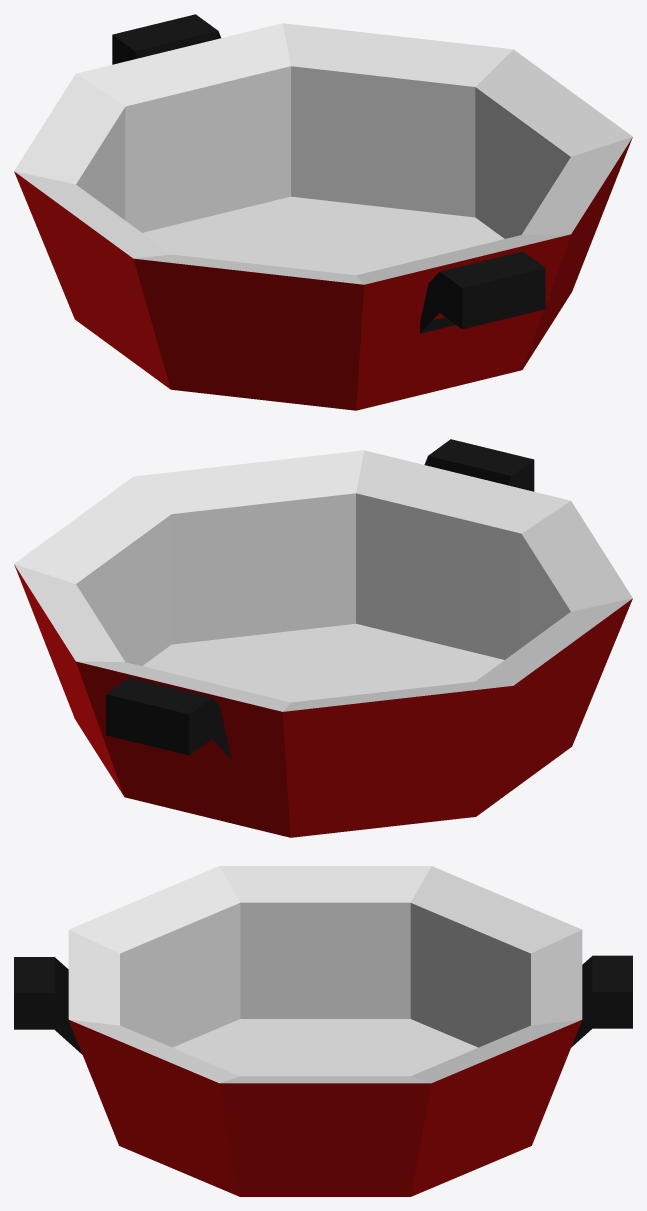
File: pot4.fbx
3 renders of one model, top to bottom at view 1: azimuth 30°, elevation 25°; view 2: azimuth 150°, elevation 25°; view 3: azimuth 270°, elevation 25°, orthographic. The views are drawn at different scales.
Parts seen in each view (by area): view 1: pot4; view 2: pot4; view 3: pot4.
Part boxes in pixels (x1,y1,x2,y2): pot4: [14, 14, 632, 410]; pot4: [14, 439, 632, 837]; pot4: [14, 866, 632, 1196].
Size of the model in its own units: 80.72 by 23.79 by 97.24.
